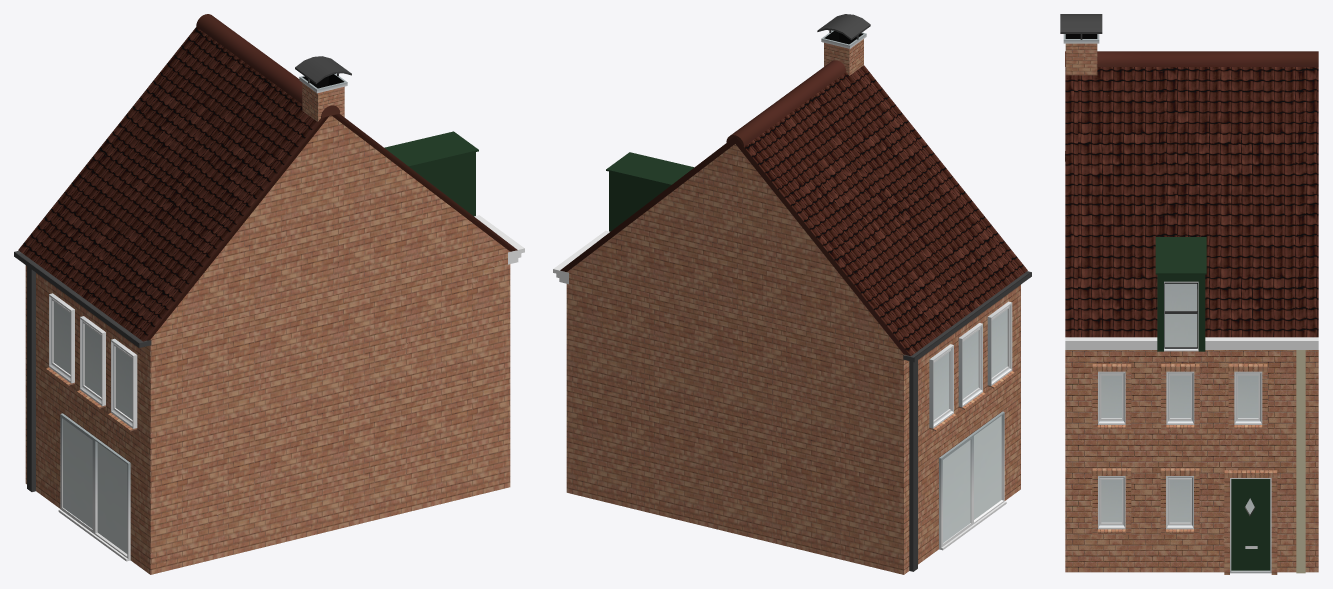
File: It_Bynt_16.fbx
3 views of the same model, side by side, from view 1: azimuth 30°, elevation 25°; view 2: azimuth 150°, elevation 25°; view 3: azimuth 270°, elevation 25° (orthographic). The views are drawn at different scales.
Visible parts, largest first — view 1: It_Bynt_16; view 2: It_Bynt_16; view 3: It_Bynt_16.
Part boxes in pixels (x1=…): It_Bynt_16: x1=14, y1=14, x2=524, y2=574; It_Bynt_16: x1=553, y1=14, x2=1031, y2=574; It_Bynt_16: x1=1060, y1=14, x2=1318, y2=574.
Size of the model in its own units: 1016 by 1159 by 582.
